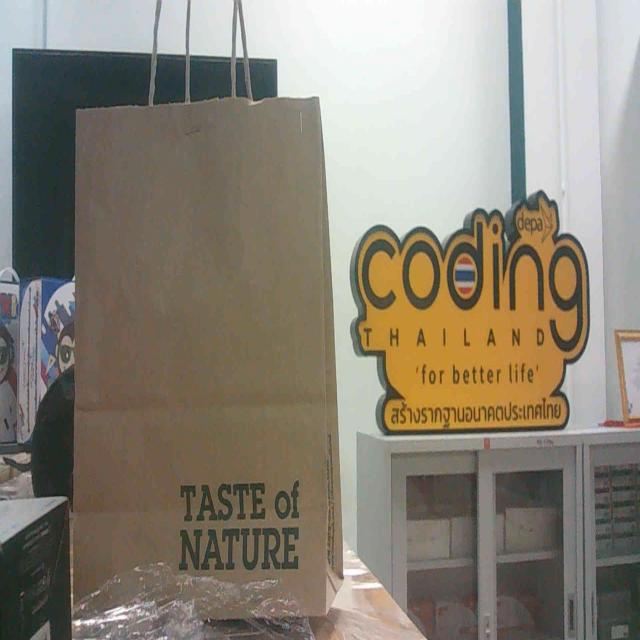bag: (60, 85, 363, 640)
